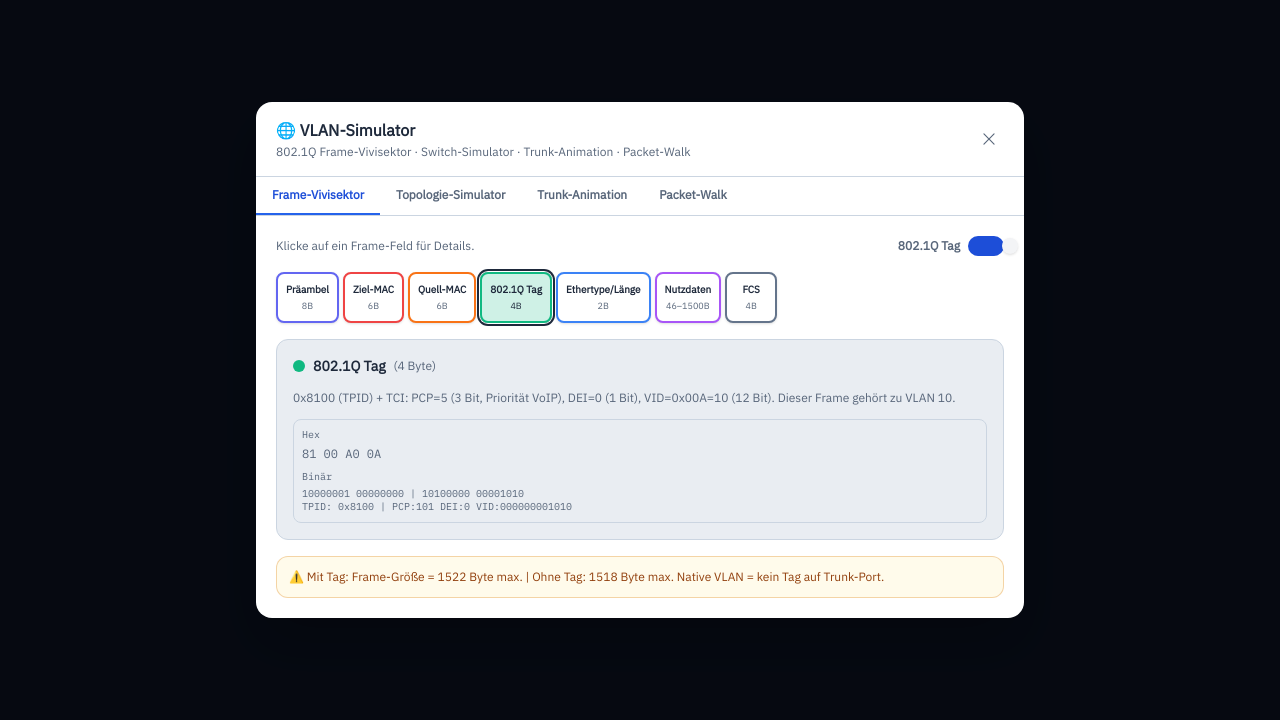
Test: Weitere critical-Fälle aus dem Reiter-Sweep › VLAN „Trunk-Animation“: Geschwindigkeits-Slider hat einen Namen
Press the mouse on the tab "Trunk-Animation" at (582, 196), box [521,177,643,215]
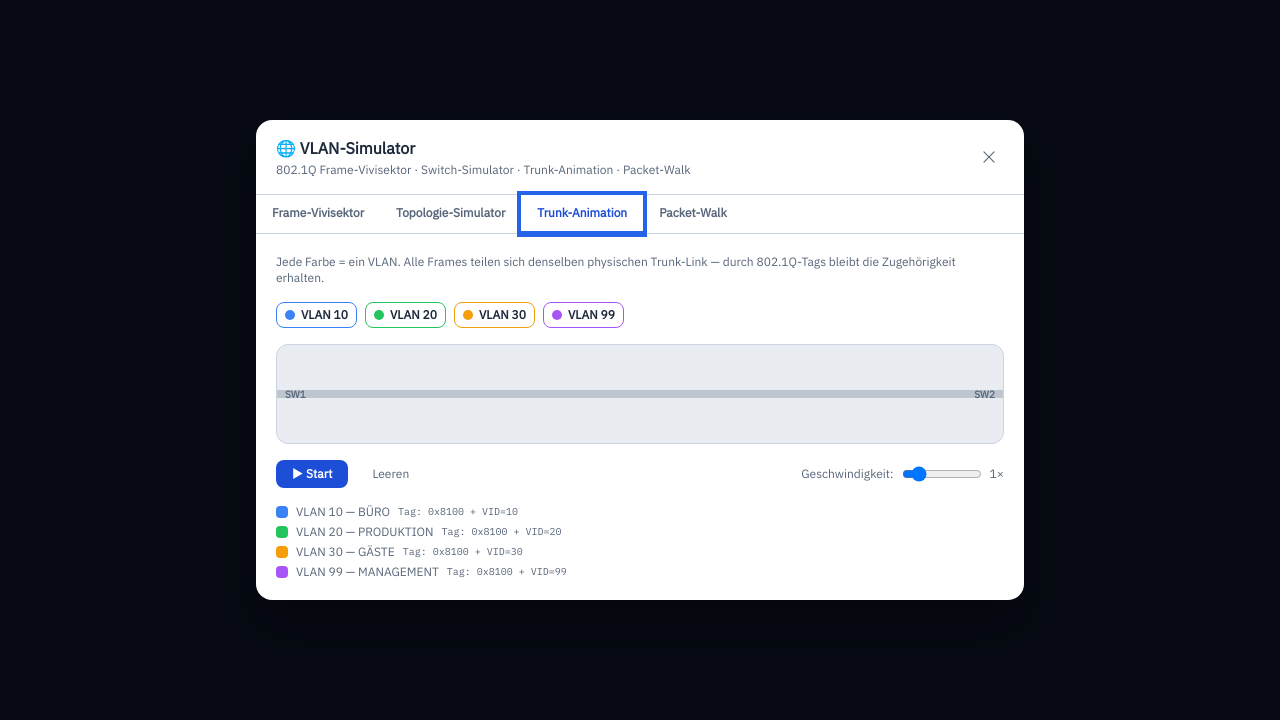
expect the slider labelled "Geschwindigkeit:" is shown: met, box [902,466,982,482]
